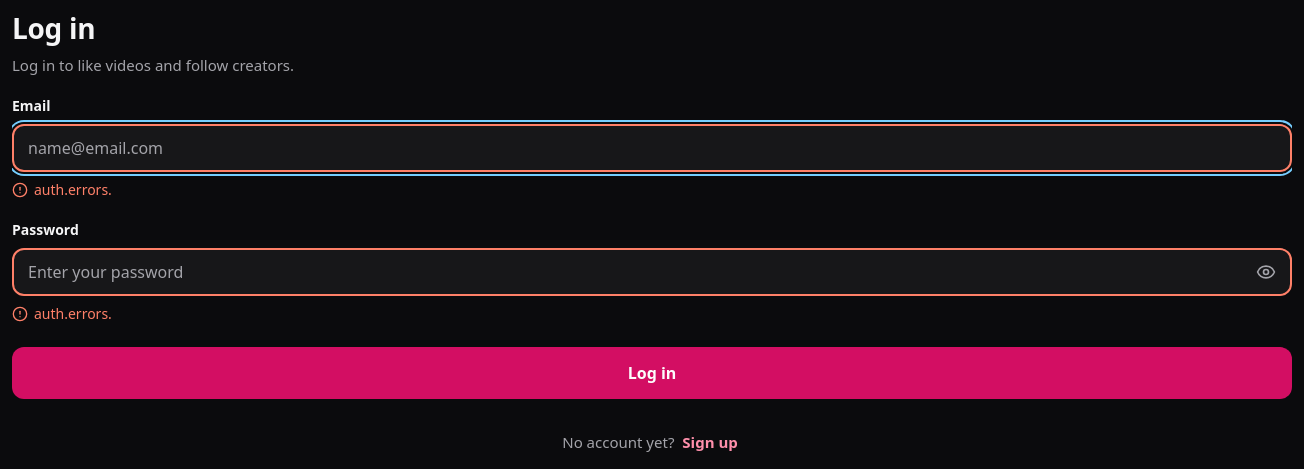
AuthForm › en: a field error of the server shows on the password field and takes the focus
Step 1. Type "minhanh@gmail.com" into the field labelled "Email" → coordinates (652, 148), box [14,126,1290,170]
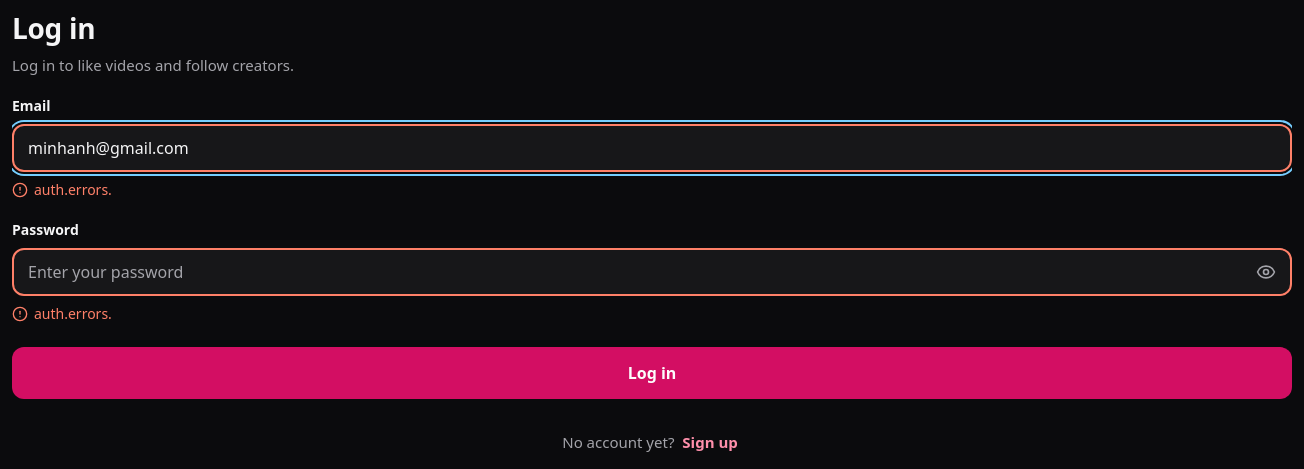
Step 2. Type "12345678" into the password field labelled "Password" → coordinates (629, 272), box [14,250,1244,294]
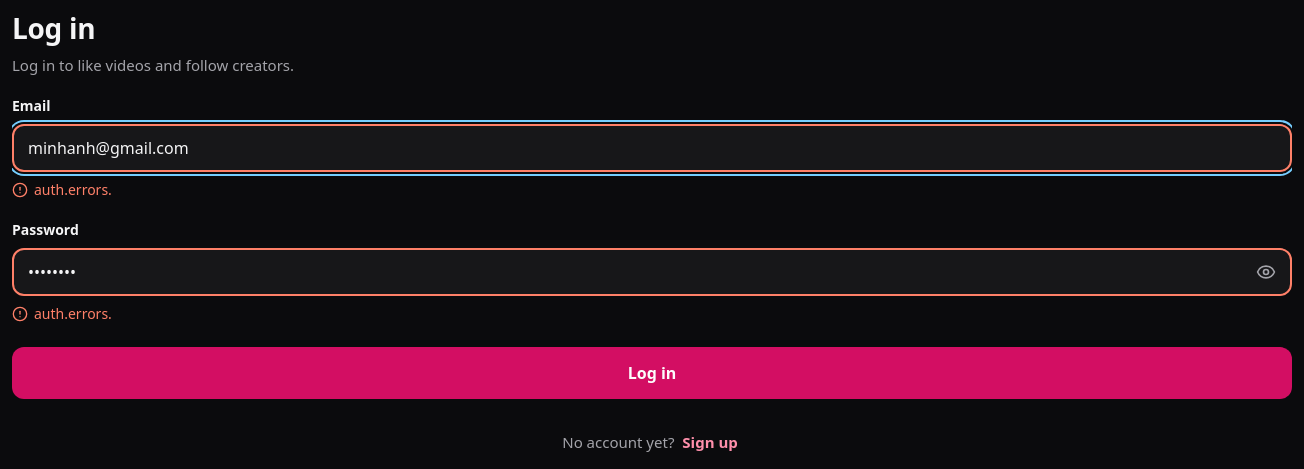
Step 3. Click the button "Log in" → coordinates (652, 373), box [12,347,1292,399]
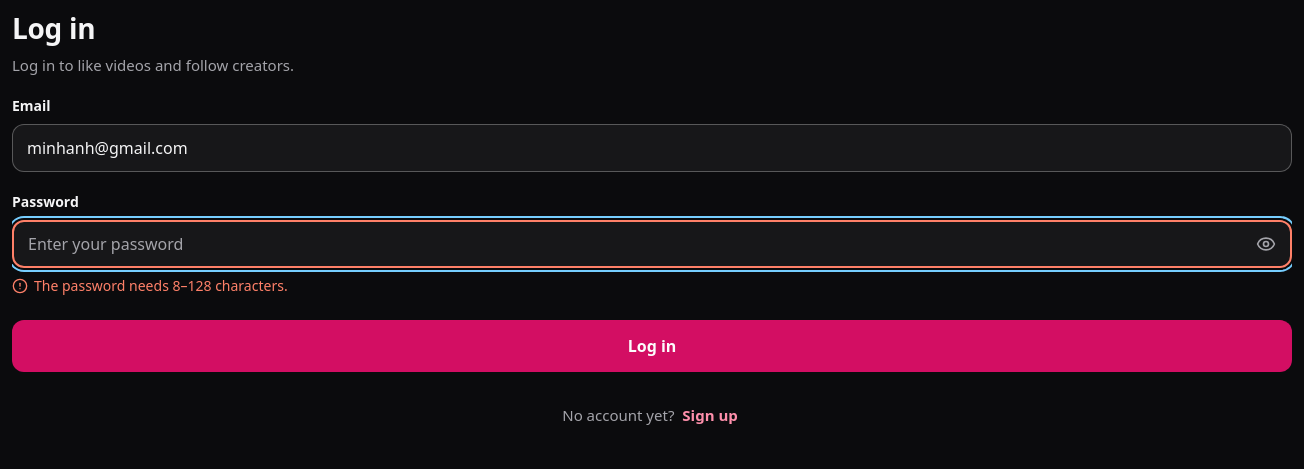
Check: the text "The password needs 8–128 characters." is shown, box [34,276,288,296]
